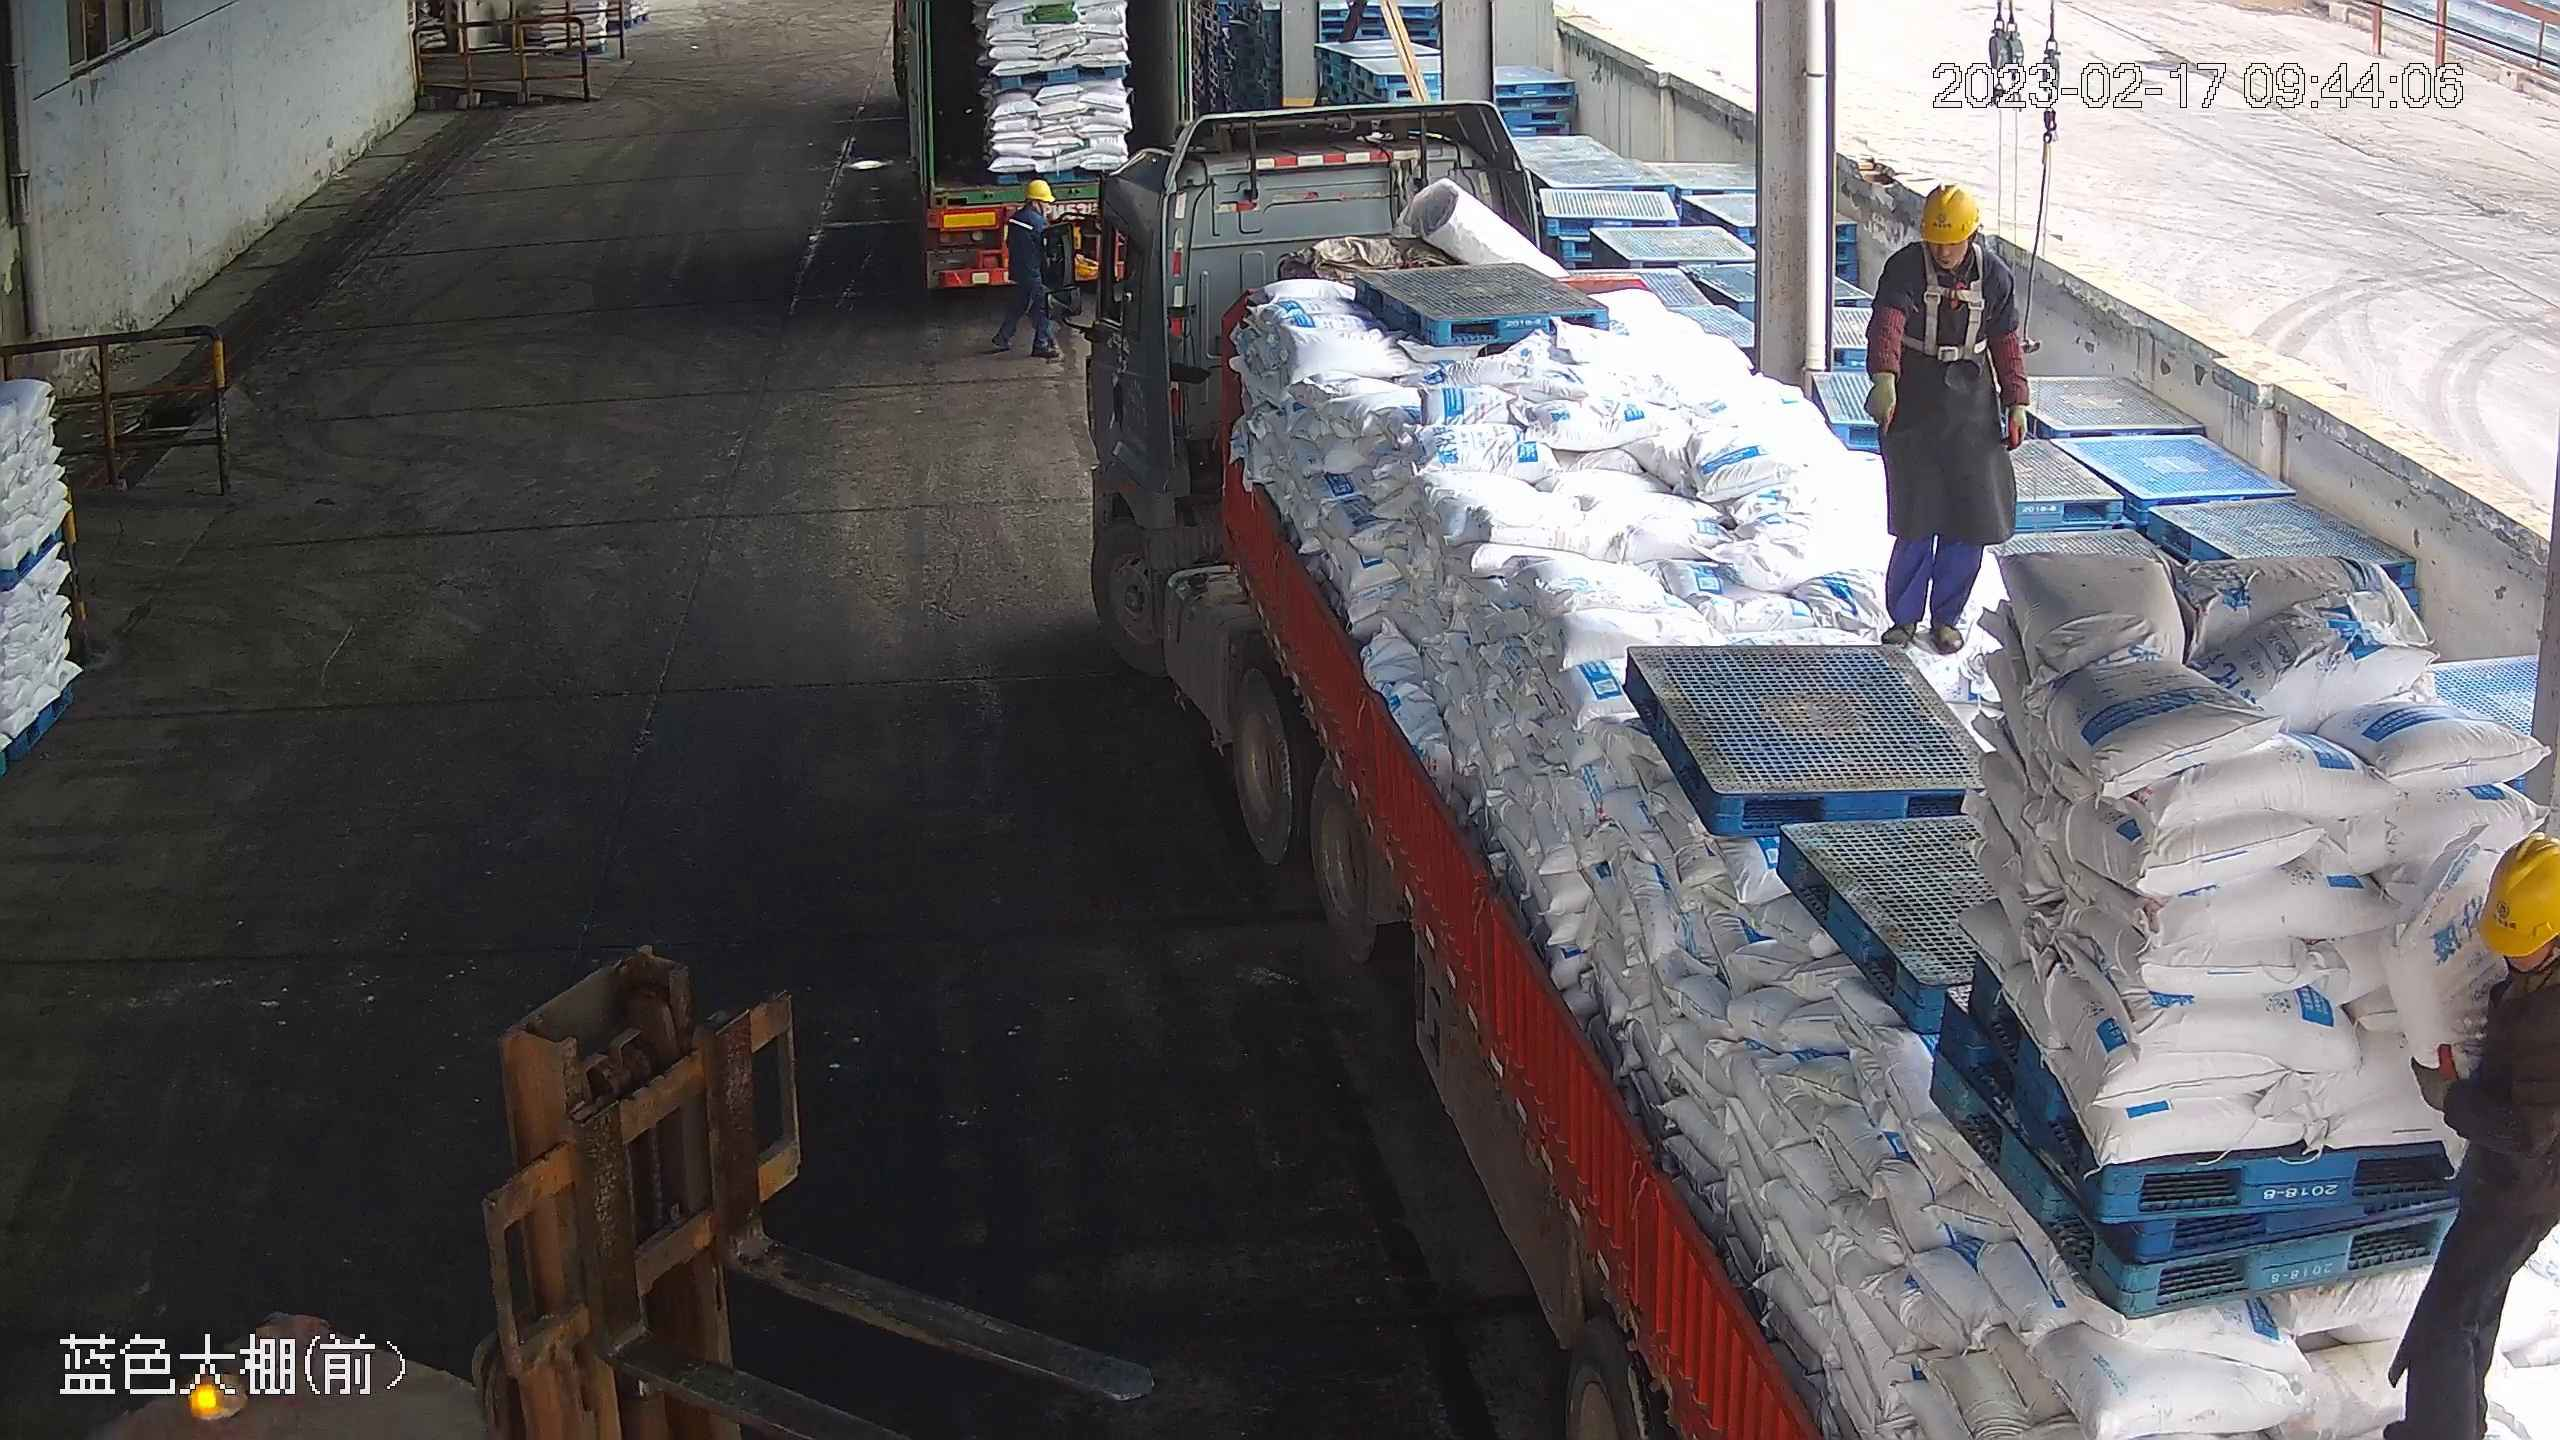belt: (1909, 230, 2004, 360)
head: (2465, 829, 2560, 1062), (1876, 178, 2017, 304), (1001, 178, 1061, 244)
helmet: (2473, 831, 2560, 956), (1918, 177, 1980, 243), (180, 1370, 233, 1418), (1020, 177, 1058, 202)
people: (1862, 175, 2032, 659), (993, 176, 1064, 362)
truck: (1129, 103, 2560, 1440)
